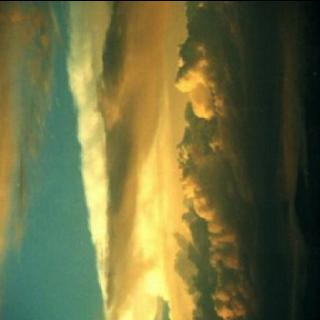Cumulus: (0, 0, 298, 320)
